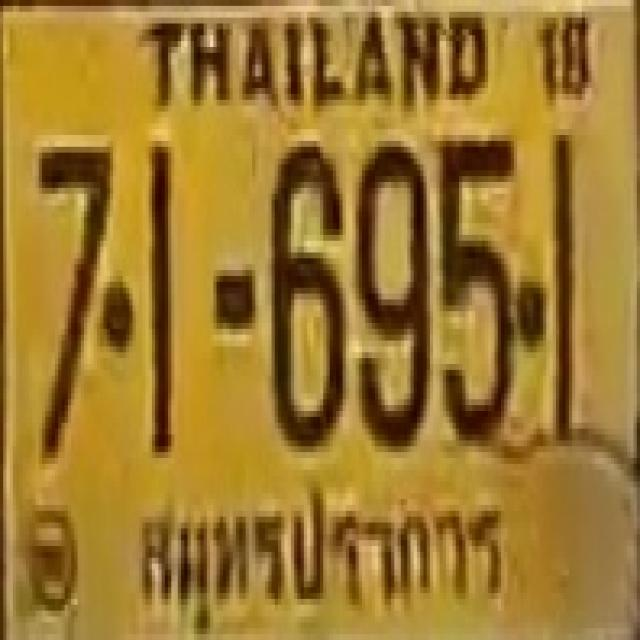1: (551, 130, 574, 440), (149, 141, 171, 452)
5: (436, 130, 514, 440)
6: (268, 138, 346, 454)
7: (35, 141, 110, 452)
9: (352, 135, 434, 454)
SPK: (127, 475, 509, 640)
